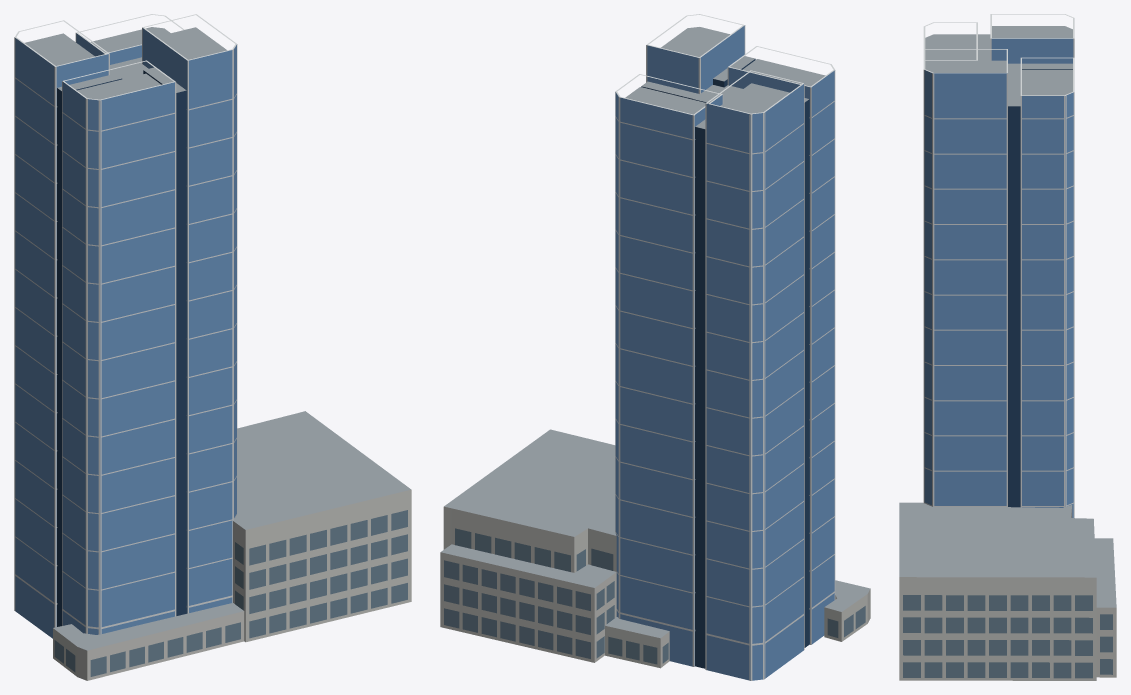
The model's file is clt-duke-energy-plaza.glb.
The picture shows the model from 3 angles, left to right: view 1: azimuth 30°, elevation 25°; view 2: azimuth 150°, elevation 25°; view 3: azimuth 270°, elevation 25°; orthographic projection. The views are drawn at different scales.
Visible parts, largest first — view 1: Duke Energy Plaza; view 2: Duke Energy Plaza; view 3: Duke Energy Plaza.
Boxes of the visible parts, x1,y1,x2,y2 form: Duke Energy Plaza: (14,14,411,680); Duke Energy Plaza: (440,14,870,680); Duke Energy Plaza: (899,14,1116,680).
Bounding box in the file's own units: 113 × 192 × 70.46.
